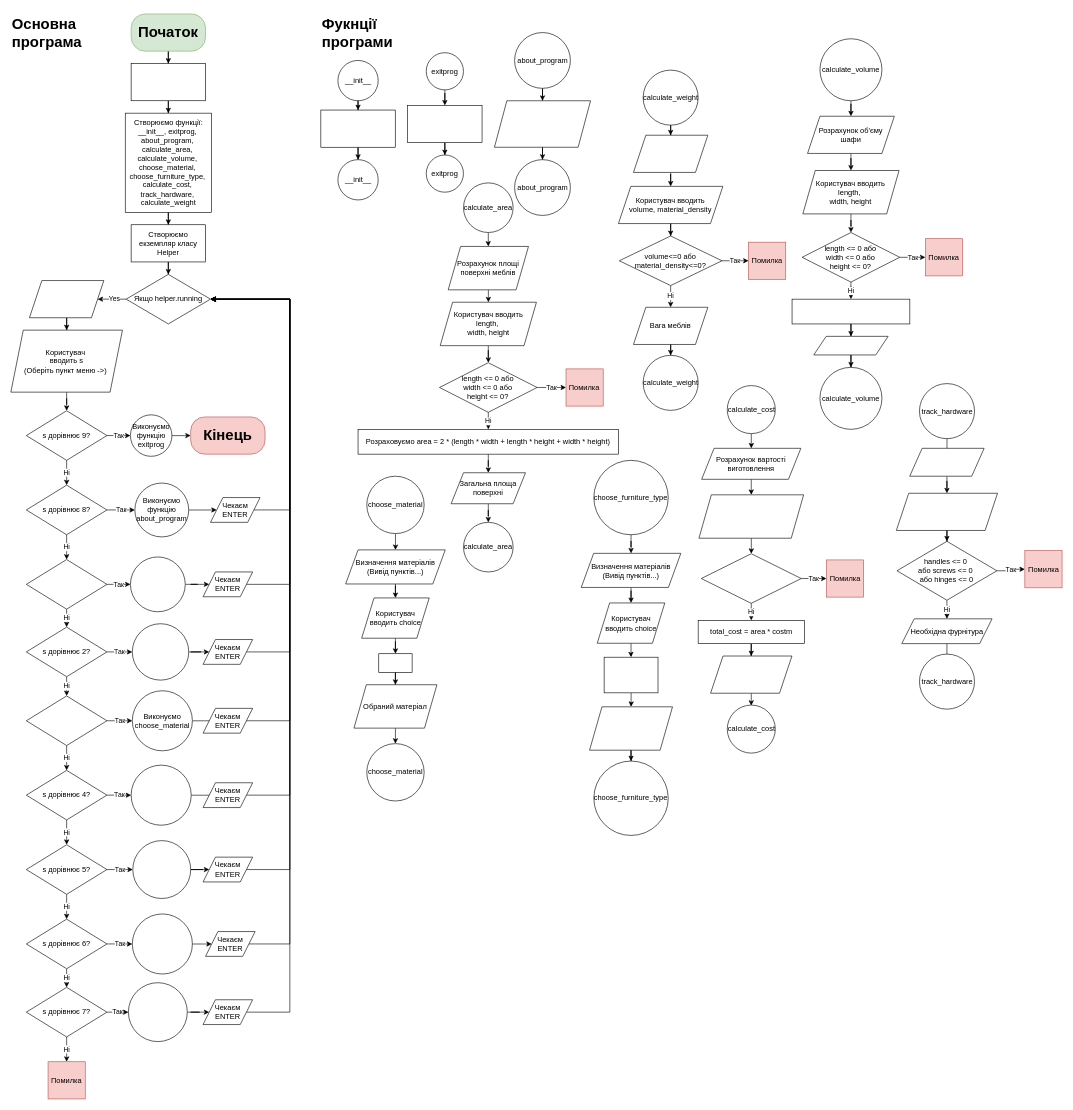
Image size: 1073x1110. Some labels were removed from this diagram. The shapes that lost their labels are listed below. From the top down, each one's centre as x and y in pixels, then its label:
At (x=168, y=82): "Оголошуємо клас Helper".
At (x=357, y=128): "Змінна для статусу програми. running = True".
At (x=444, y=124): "Змінна вимикає програму running = False".
At (x=542, y=123): "Вивід інформації про програму...".
At (x=670, y=153): "Розрахунок ваги меблів".
At (x=66, y=299): "Виводимо меню".
At (x=850, y=311): "volume = length * width * height".
At (x=850, y=345): "Об'єм шафи".
At (x=946, y=462): "Облік фурнітури".
At (x=751, y=516): "Користувач вводить area, costm".
At (x=947, y=511): "Користувач вводить handles, screws, hinges".
At (x=66, y=584): "s дорівнює 1?".
At (x=157, y=584): "Виконужуємо функцію calculate_area".
At (x=751, y=578): "area <= 0 або costm<=0?".
At (x=160, y=651): "Виконуємо calculate_volume".
At (x=395, y=662): "materials словник".
At (x=631, y=675): "furniture_types словник".
At (x=751, y=674): "Загальна вартість виготовлення".
At (x=66, y=720): "s дорівнює 3?".
At (x=631, y=728): "Обраний тип меблів".
At (x=161, y=795): "Виконуємо choose_furniture_type".
At (x=161, y=869): "Виконуємо calculate_cost".
At (x=162, y=943): "Виконуємо track_hardware".
At (x=157, y=1012): "Виконуємо calculate_weight".
